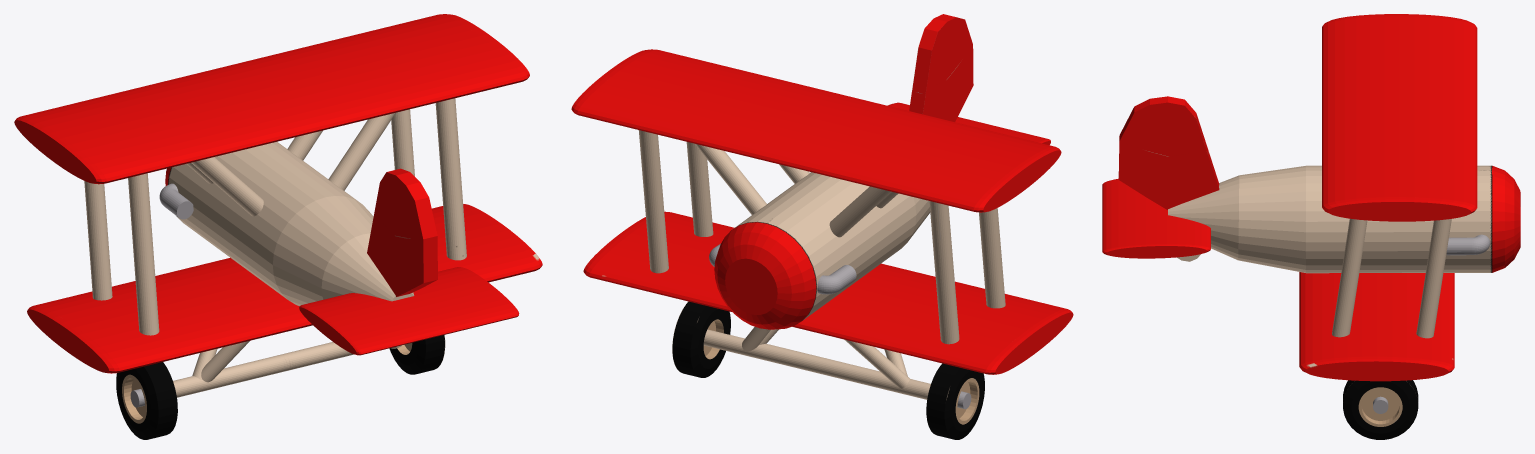
File: Avioneta_K.obj
3 renders of one model, left to right at view 1: azimuth 30°, elevation 25°; view 2: azimuth 150°, elevation 25°; view 3: azimuth 270°, elevation 25°, orthographic. The views are drawn at different scales.
Parts seen in each view (by area): view 1: Avioneta; view 2: Avioneta; view 3: Avioneta.
Part boxes in pixels (x1=…): Avioneta: x1=14, y1=14, x2=542, y2=439; Avioneta: x1=571, y1=14, x2=1073, y2=439; Avioneta: x1=1102, y1=14, x2=1520, y2=439.
Bounding box in the file's own units: 3.48 × 2.42 × 3.28.
1 material, 1 textured.
